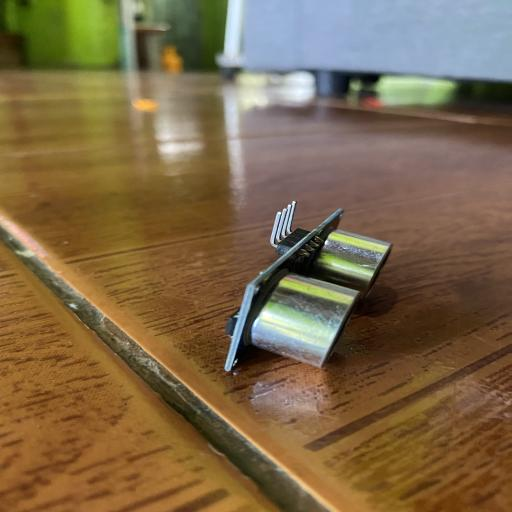Ultrasonic Sensor: (222, 199, 394, 373)
